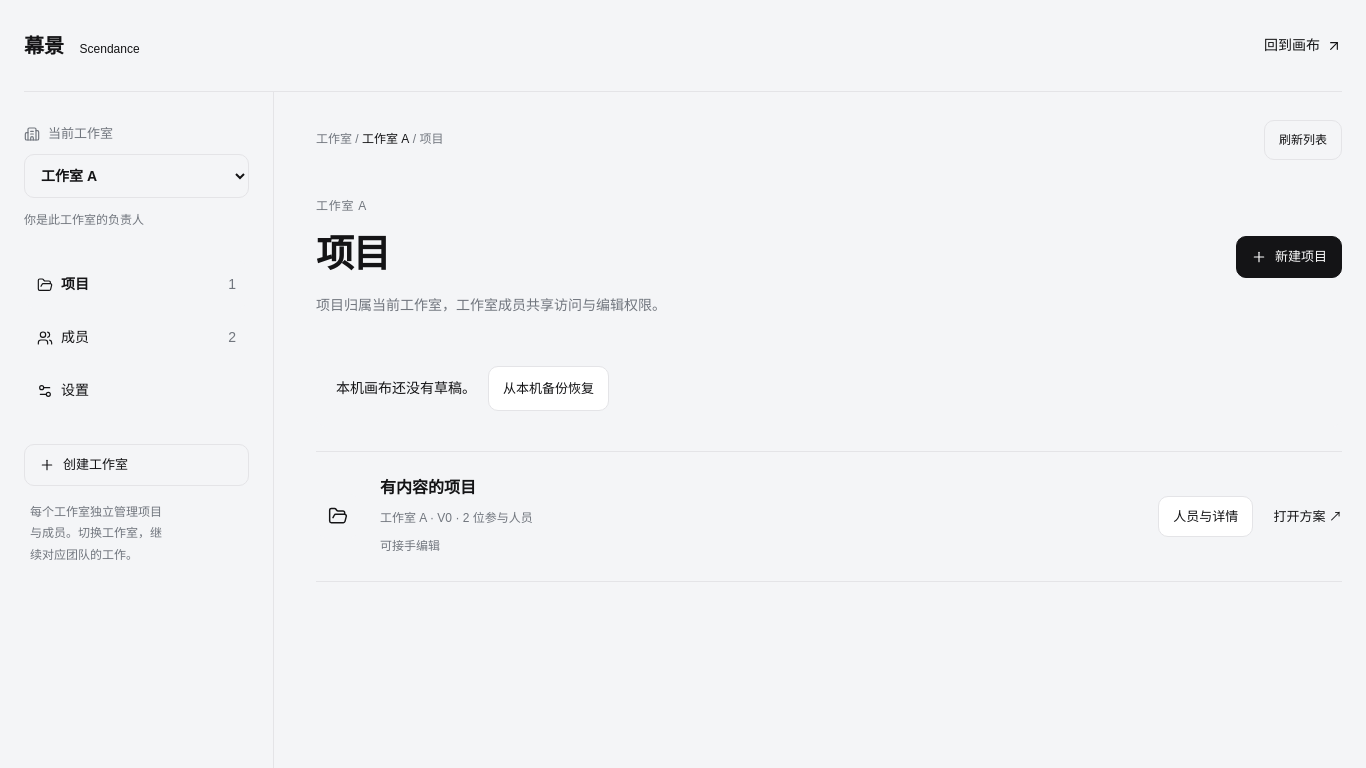
workspace management › disables deleting a nonempty workspace
This screenshot has width=1366, height=768.
Expected: the button "有内容的项目" is shown, [380,476,476,500]
Step 1. Click the button "设置" → (136, 391), box [24,367,249,414]
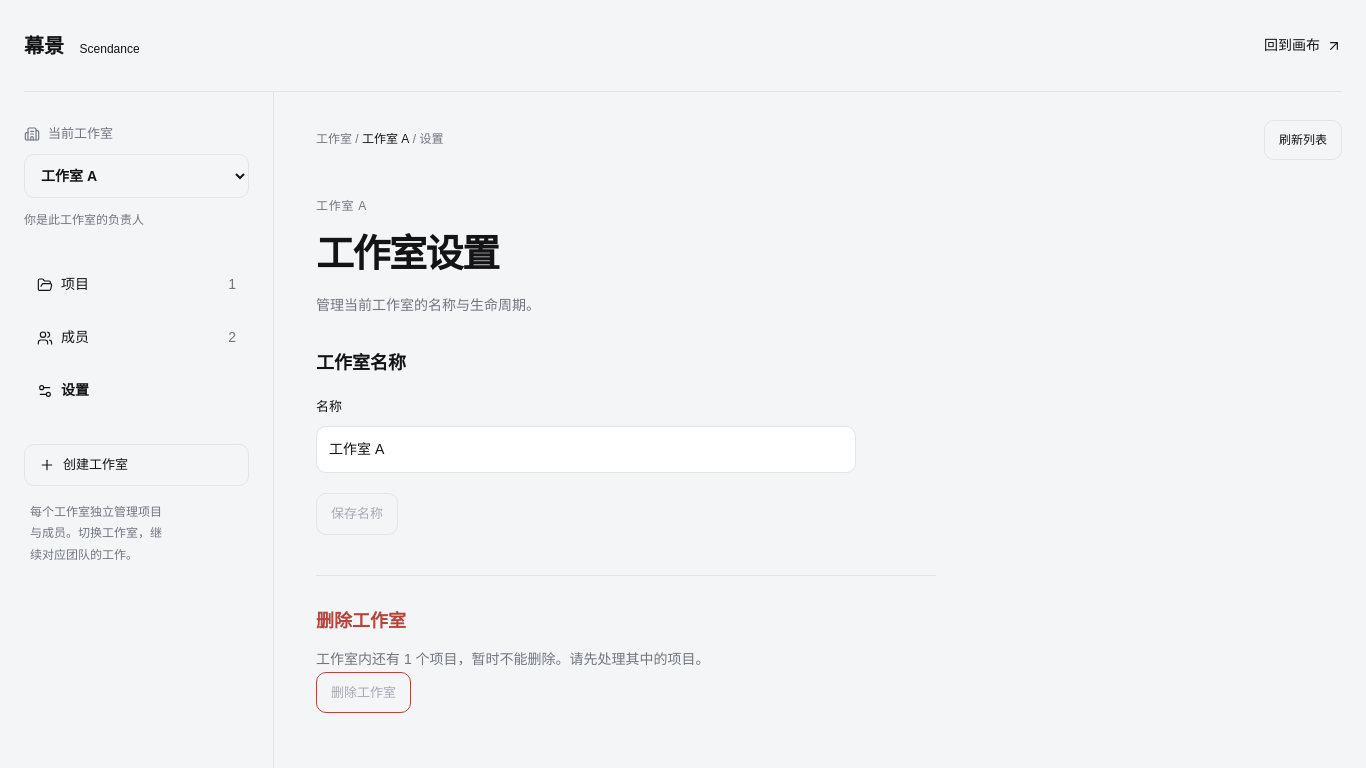
Result: the button "删除工作室" is disabled at [316,672,411,714]
Result: the text "工作室内还有 1 个项目，暂时不能删除。请先处理其中的项目。" is shown at [316,651,710,667]
